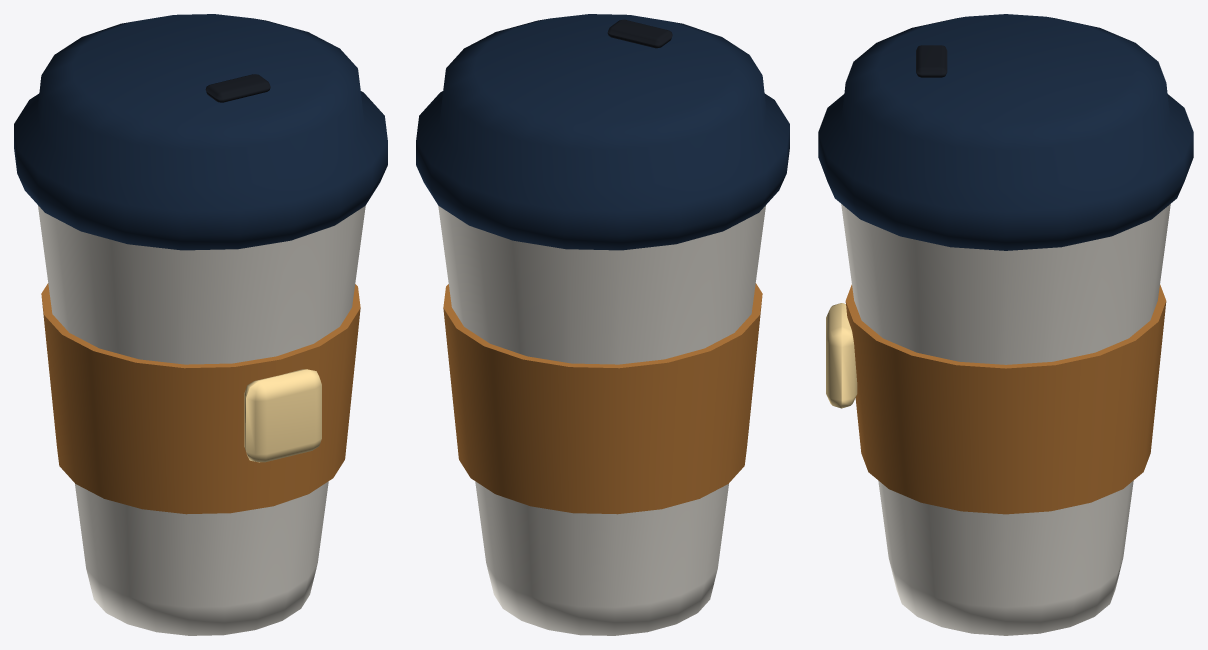
Rendered from 27_Takeaway_Coffee.glb.
3 views of the same model, side by side, from view 1: azimuth 30°, elevation 25°; view 2: azimuth 150°, elevation 25°; view 3: azimuth 270°, elevation 25° (orthographic).
Visible parts, largest first — view 1: 27_Takeaway_Coffee_EXPORT; view 2: 27_Takeaway_Coffee_EXPORT; view 3: 27_Takeaway_Coffee_EXPORT.
Boxes of the visible parts, bbox=[...] form: 27_Takeaway_Coffee_EXPORT: bbox=[14, 14, 387, 635]; 27_Takeaway_Coffee_EXPORT: bbox=[416, 14, 789, 635]; 27_Takeaway_Coffee_EXPORT: bbox=[818, 14, 1193, 635].
Size of the model in its own units: 0.192 by 0.301 by 0.192.
